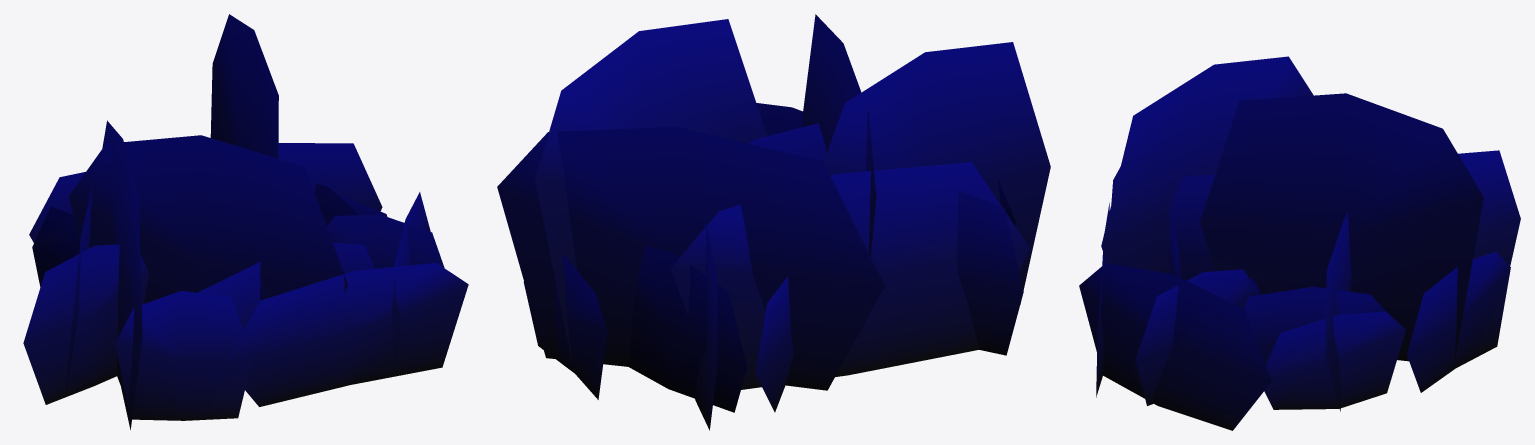
The model's file is SM_Grass_S_Patch_Md_01.fbx.
3 views of the same model, side by side, from view 1: azimuth 30°, elevation 25°; view 2: azimuth 150°, elevation 25°; view 3: azimuth 270°, elevation 25° (orthographic). The views are drawn at different scales.
Visible parts, largest first — view 1: SM_Grass_S_Patch_Md_01; view 2: SM_Grass_S_Patch_Md_01; view 3: SM_Grass_S_Patch_Md_01.
Boxes of the visible parts, bbox=[...] form: SM_Grass_S_Patch_Md_01: bbox=[23, 14, 468, 429]; SM_Grass_S_Patch_Md_01: bbox=[497, 14, 1050, 430]; SM_Grass_S_Patch_Md_01: bbox=[1079, 56, 1520, 430].
Bounding box in the file's own units: 102 × 89 × 60.81.
